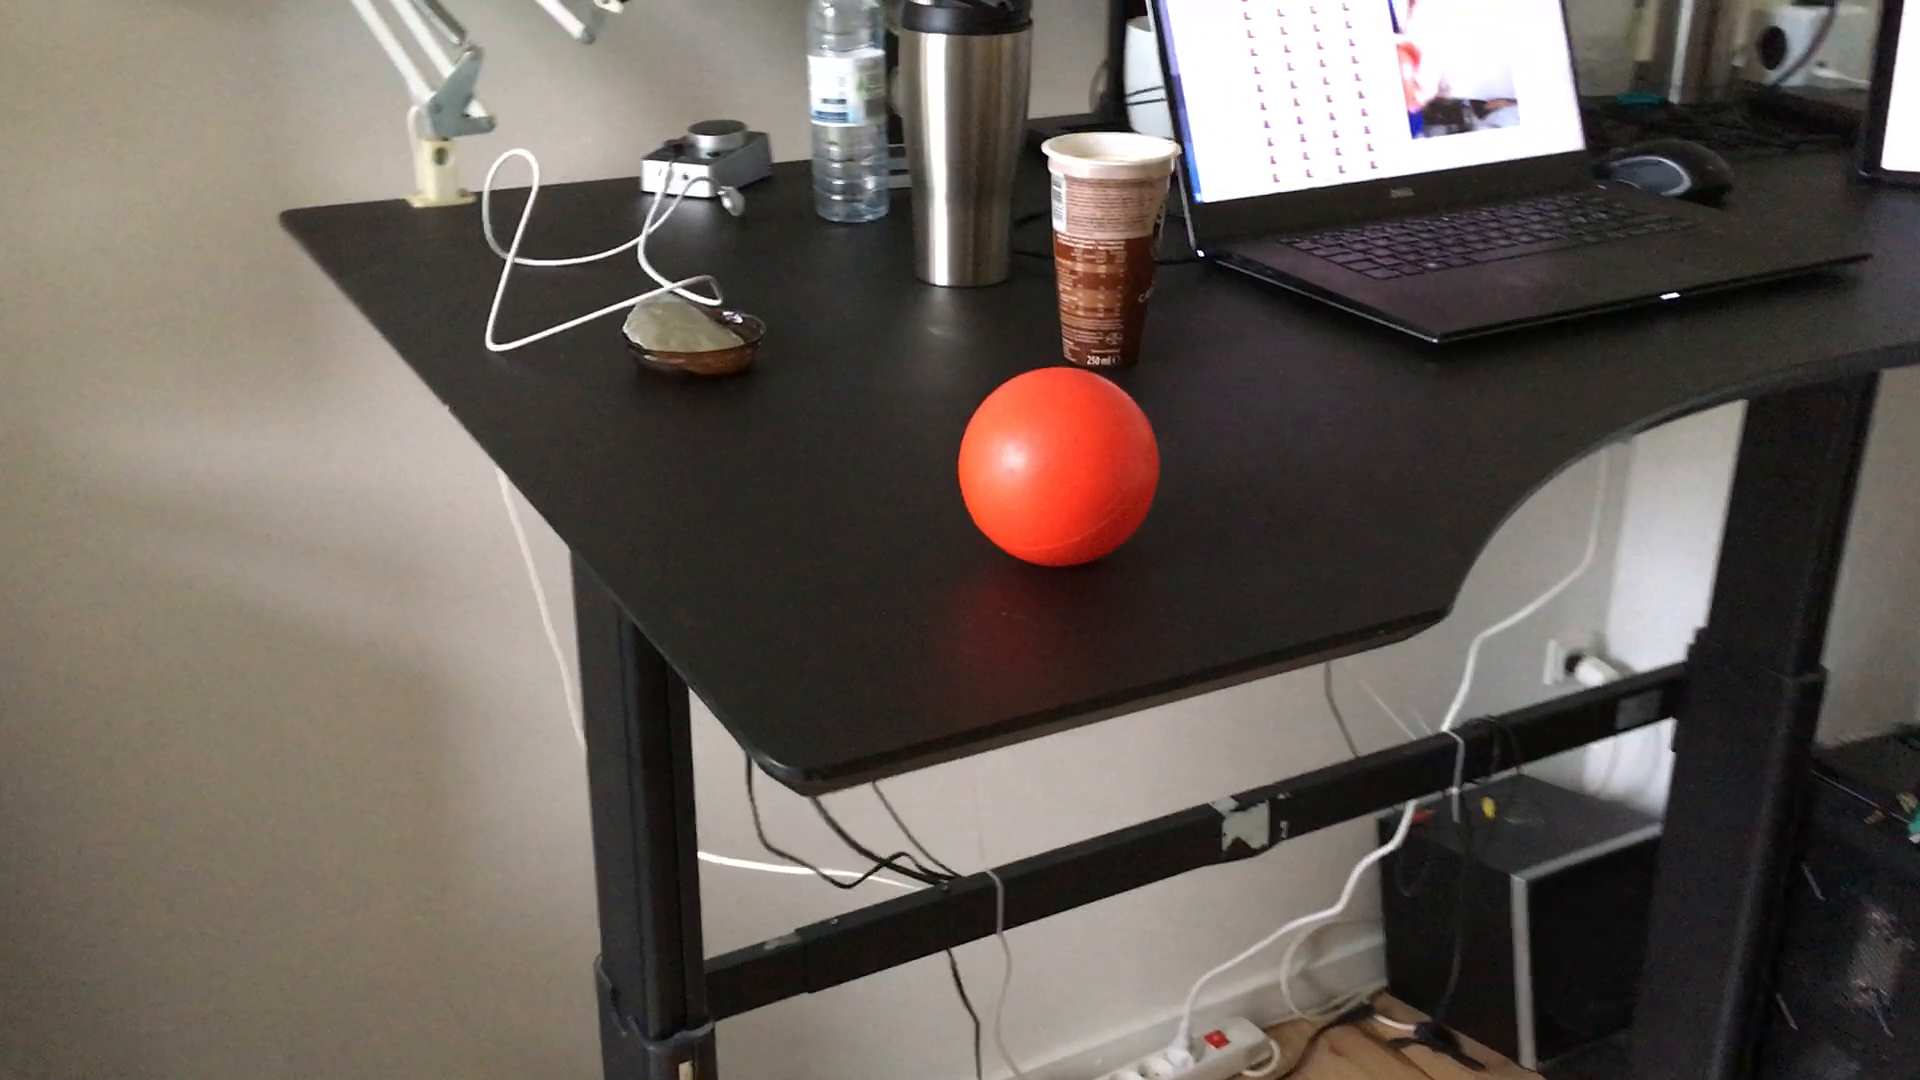Ball: (957, 368, 1160, 572)
